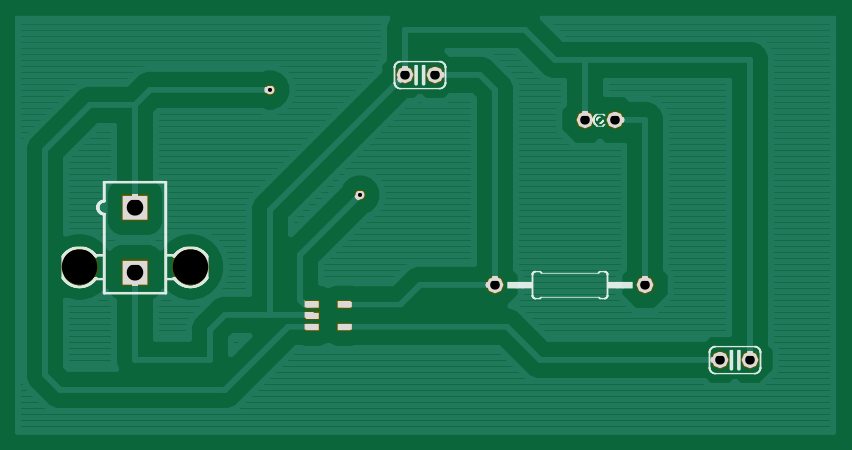LED: (579, 109, 625, 130)
capacitance: (392, 59, 448, 92), (708, 344, 763, 377)
power_supply: (61, 179, 209, 295)
regulation: (304, 301, 352, 332)
resistance: (483, 269, 655, 298)
